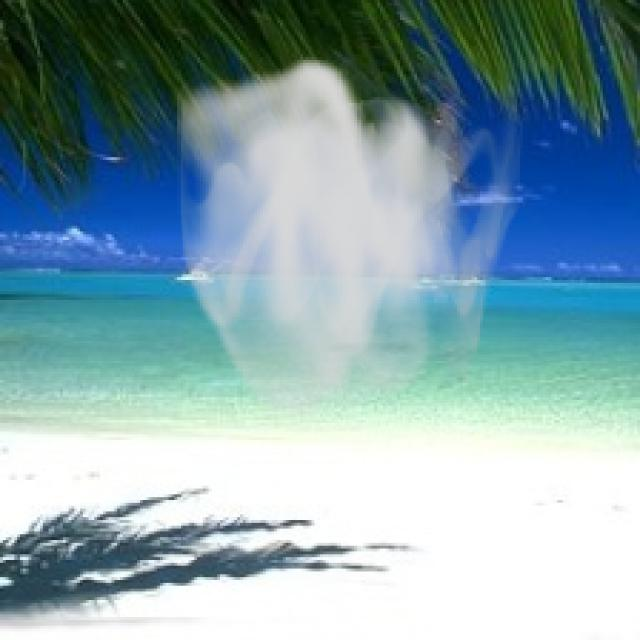smoke: (165, 54, 526, 432)
